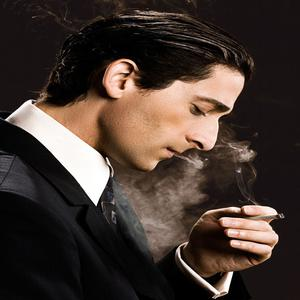cigarette: (235, 209, 291, 223)
